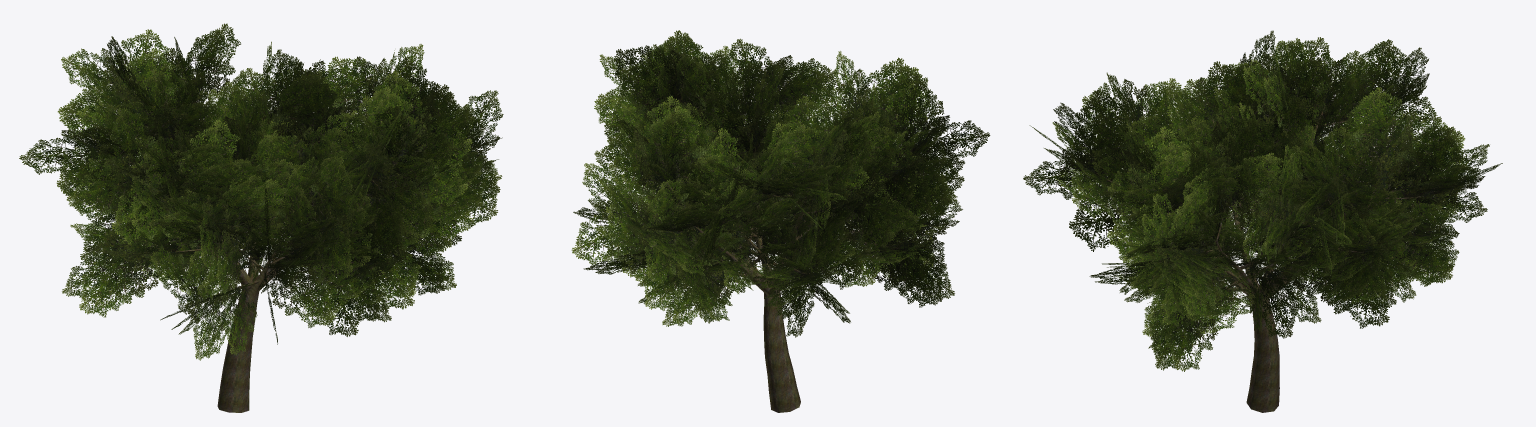
The model's file is pine08_lod0.glb.
3 renders of one model, left to right at view 1: azimuth 30°, elevation 25°; view 2: azimuth 150°, elevation 25°; view 3: azimuth 270°, elevation 25°, orthographic. The views are drawn at different scales.
Parts seen in each view (by area): view 1: pine08_lod0; view 2: pine08_lod0; view 3: pine08_lod0.
Boxes of the visible parts, left/top/right/bottom form: pine08_lod0: left=19, top=23, right=503, bottom=412; pine08_lod0: left=571, top=30, right=990, bottom=412; pine08_lod0: left=1023, top=30, right=1502, bottom=412.
Size of the model in its own units: 71.53 by 57.49 by 73.6.
2 materials, 2 textured.
